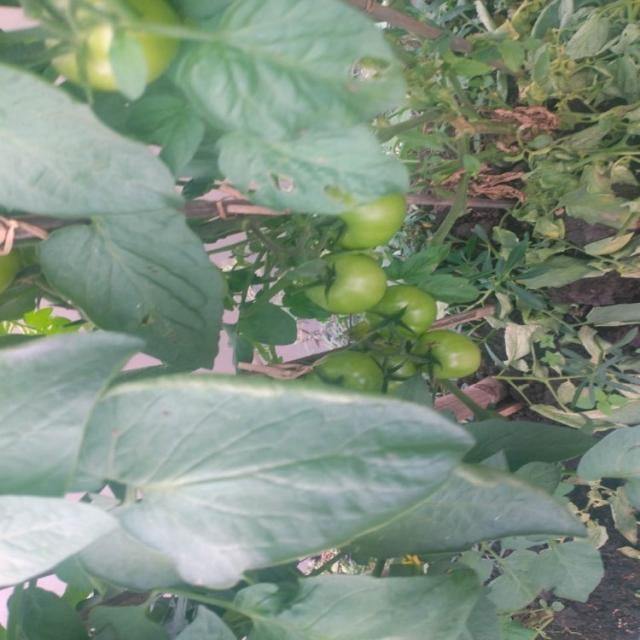tomato: (40, 1, 179, 95), (320, 183, 411, 247), (302, 251, 393, 313), (413, 323, 486, 383), (308, 350, 387, 403), (375, 283, 441, 340), (363, 338, 414, 396)
